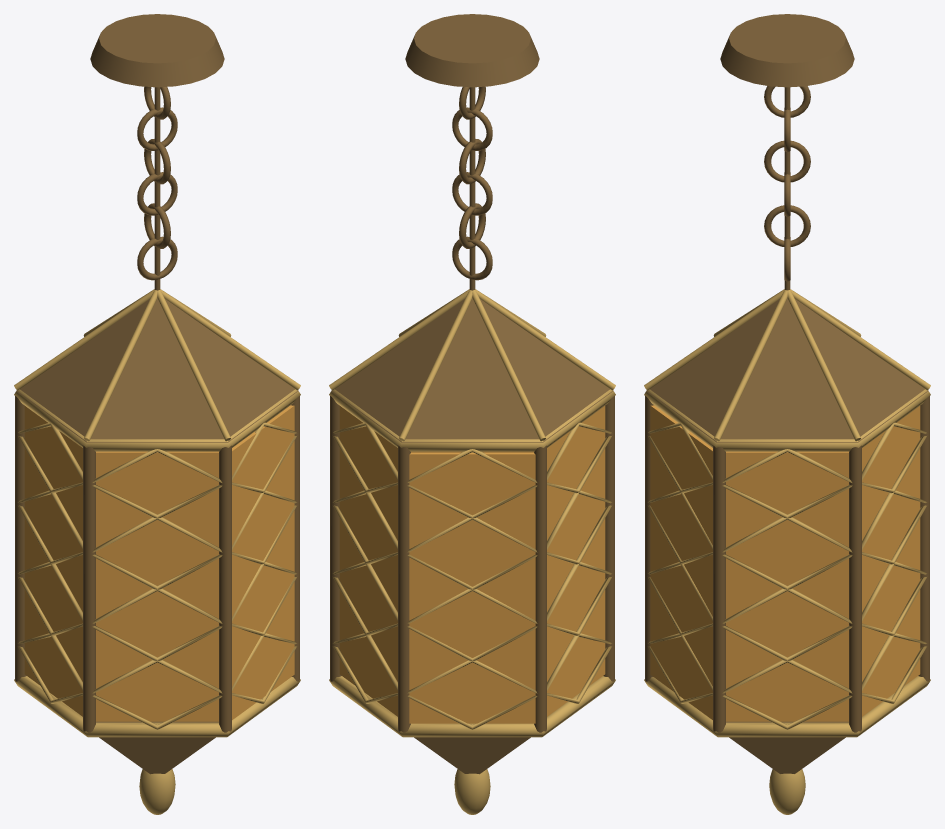
File: fixture_moroccan_pendant.glb
3 views of the same model, side by side, from view 1: azimuth 30°, elevation 25°; view 2: azimuth 150°, elevation 25°; view 3: azimuth 270°, elevation 25° (orthographic).
Parts seen in each view (by area): view 1: Amber lantern panel 4, Peaked hexagonal lantern roof, Amber lantern panel 5, Amber lantern panel 3, Ceiling mounting canopy, Hexagonal lantern frame, Lantern corner post 4, Lantern corner post 5, Hexagonal lantern frame.001, Tapered hexagonal lantern bottom, Lantern corner post 3, Lantern corner post 6 (+23 smaller); view 2: Amber lantern panel 2, Peaked hexagonal lantern roof, Amber lantern panel 1, Amber lantern panel 3, Ceiling mounting canopy, Hexagonal lantern frame, Hexagonal lantern frame.001, Lantern corner post 2, Lantern corner post 3, Lantern corner post 1, Lantern corner post 4, Tapered hexagonal lantern bottom (+23 smaller); view 3: Amber lantern panel 6, Peaked hexagonal lantern roof, Amber lantern panel 5, Amber lantern panel 1, Ceiling mounting canopy, Hexagonal lantern frame, Lantern corner post 1, Lantern corner post 6, Hexagonal lantern frame.001, Tapered hexagonal lantern bottom, Lantern corner post 2, Lantern corner post 5 (+21 smaller).
Boxes of the visible parts, x1,y1,x2,y2 form: Amber lantern panel 4: (96, 451, 218, 721); Peaked hexagonal lantern roof: (16, 298, 298, 442); Amber lantern panel 5: (232, 405, 294, 719); Amber lantern panel 3: (24, 406, 82, 716); Ceiling mounting canopy: (90, 14, 224, 87); Hexagonal lantern frame: (14, 676, 300, 737); Lantern corner post 4: (83, 445, 95, 732); Lantern corner post 5: (219, 445, 231, 732); Hexagonal lantern frame.001: (14, 389, 300, 451); Tapered hexagonal lantern bottom: (96, 721, 218, 774); Lantern corner post 3: (15, 396, 26, 681); Lantern corner post 6: (291, 396, 299, 681); Amber lantern panel 2: (409, 452, 535, 723); Peaked hexagonal lantern roof: (331, 298, 613, 442); Amber lantern panel 1: (339, 406, 397, 716); Amber lantern panel 3: (547, 406, 605, 716); Ceiling mounting canopy: (405, 14, 539, 87); Hexagonal lantern frame: (329, 676, 615, 737); Hexagonal lantern frame.001: (329, 389, 615, 451); Lantern corner post 2: (398, 445, 410, 732); Lantern corner post 3: (534, 445, 546, 732); Lantern corner post 1: (330, 396, 341, 681); Lantern corner post 4: (603, 396, 614, 681); Tapered hexagonal lantern bottom: (414, 737, 530, 774); Amber lantern panel 6: (726, 451, 848, 721); Peaked hexagonal lantern roof: (646, 298, 928, 442); Amber lantern panel 5: (650, 405, 712, 719); Amber lantern panel 1: (862, 406, 920, 716); Ceiling mounting canopy: (720, 14, 854, 87); Hexagonal lantern frame: (644, 676, 930, 737); Lantern corner post 1: (849, 445, 861, 732); Lantern corner post 6: (713, 445, 725, 732); Hexagonal lantern frame.001: (644, 389, 930, 451); Tapered hexagonal lantern bottom: (726, 721, 848, 773); Lantern corner post 2: (918, 395, 929, 681); Lantern corner post 5: (645, 395, 653, 681).
Bounding box in the file's own units: 0.3012 × 1.03 × 0.346.
